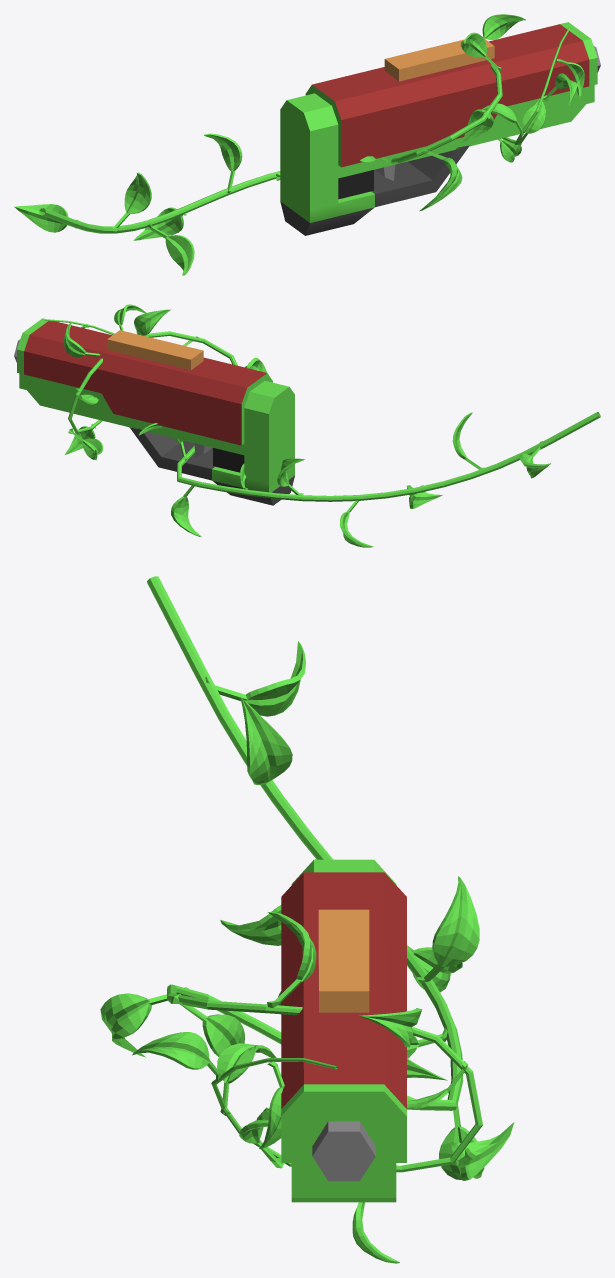
The model's file is gun.glb.
The picture shows the model from 3 angles, top to bottom: view 1: azimuth 30°, elevation 25°; view 2: azimuth 150°, elevation 25°; view 3: azimuth 270°, elevation 25°; orthographic projection. The views are drawn at different scales.
Parts seen in each view (by area): view 1: Cube.002, Leaf, stem; view 2: Cube.002, Leaf, stem; view 3: Cube.002, Leaf, stem.
Boxes of the visible parts, x1=… form: Cube.002: x1=280, y1=22, x2=600, y2=235; Leaf: x1=14, y1=14, x2=584, y2=275; stem: x1=39, y1=26, x2=570, y2=233; Cube.002: x1=14, y1=318, x2=294, y2=505; Leaf: x1=63, y1=304, x2=550, y2=547; stem: x1=44, y1=319, x2=600, y2=501; Cube.002: x1=281, y1=859, x2=406, y2=1202; Leaf: x1=100, y1=641, x2=514, y2=1263; stem: x1=147, y1=576, x2=482, y2=1172.
Bounding box in the file's own units: 2.39 × 0.7347 × 0.8056.
